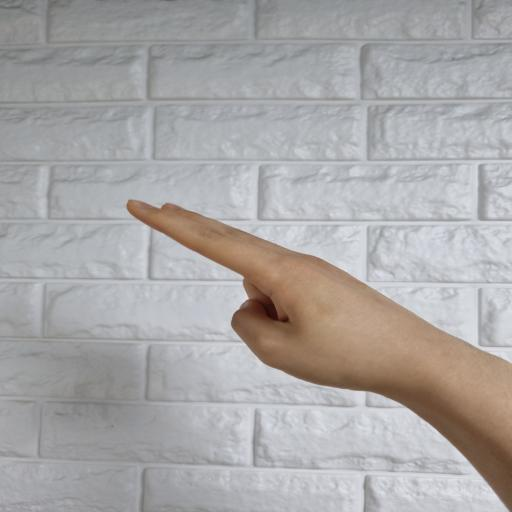Scissors: (126, 200, 472, 394)
